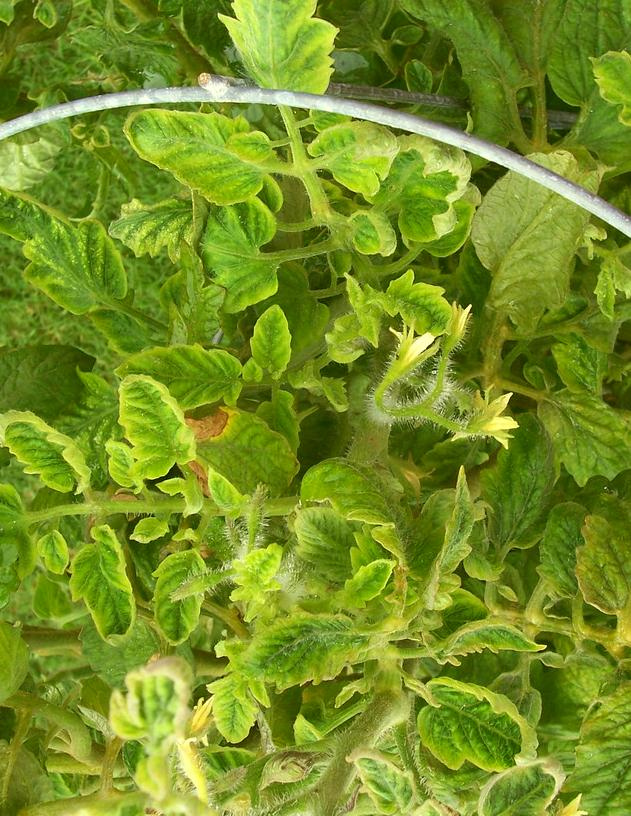Tomato leaf yellow virus: (219, 606, 401, 706), (122, 110, 282, 210), (221, 0, 340, 132), (415, 676, 549, 790), (101, 369, 209, 506), (294, 496, 401, 594), (82, 345, 251, 407), (0, 389, 92, 498), (294, 110, 406, 195), (73, 520, 142, 650), (206, 645, 266, 753), (154, 545, 209, 651), (244, 300, 301, 401), (364, 279, 456, 341), (583, 47, 631, 156)
